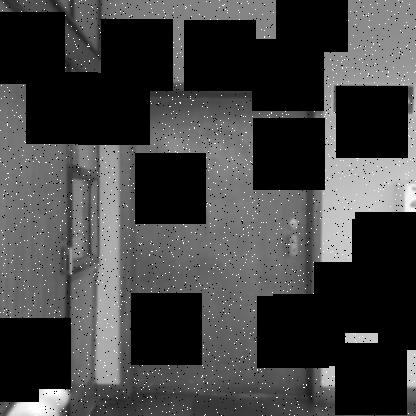Porte: (118, 81, 322, 410)
